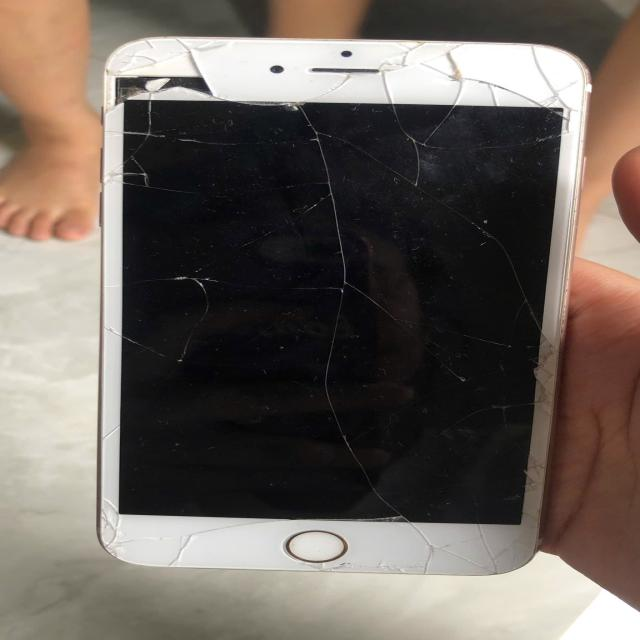gen_7_8: (81, 32, 594, 579)
physical_damage: (110, 36, 232, 102), (384, 49, 466, 72), (501, 526, 542, 566), (109, 128, 206, 144), (94, 496, 120, 547), (106, 156, 153, 184), (339, 559, 421, 574), (524, 121, 573, 145), (196, 518, 292, 530), (340, 433, 366, 477), (382, 38, 462, 52), (534, 349, 552, 408), (166, 274, 224, 292), (470, 336, 552, 348), (523, 452, 546, 493), (240, 98, 312, 111), (480, 522, 498, 574), (459, 215, 494, 238), (418, 544, 444, 574), (303, 112, 326, 144), (332, 262, 354, 294), (376, 72, 397, 102), (370, 487, 398, 509), (323, 381, 338, 422), (167, 344, 196, 365), (512, 89, 545, 107), (104, 325, 134, 344), (320, 180, 339, 209), (144, 185, 208, 193), (548, 78, 584, 92), (396, 130, 425, 147), (528, 44, 544, 74), (404, 174, 429, 193), (138, 341, 164, 359), (323, 338, 336, 374), (192, 299, 212, 322), (142, 104, 158, 132), (550, 93, 576, 110), (317, 147, 332, 176), (316, 85, 348, 98), (450, 76, 484, 88), (121, 535, 188, 541), (102, 422, 124, 440), (172, 545, 189, 565), (301, 562, 334, 572), (334, 238, 348, 261), (332, 210, 344, 235), (447, 90, 466, 105), (448, 366, 464, 383), (522, 507, 540, 522), (366, 514, 403, 520), (335, 72, 355, 83), (488, 90, 500, 106), (187, 326, 203, 338), (379, 304, 394, 316), (398, 318, 417, 327), (340, 296, 344, 334), (490, 82, 508, 90), (367, 293, 379, 304), (494, 142, 513, 148), (105, 548, 119, 556), (436, 144, 453, 150), (308, 204, 318, 214), (467, 145, 485, 149)
